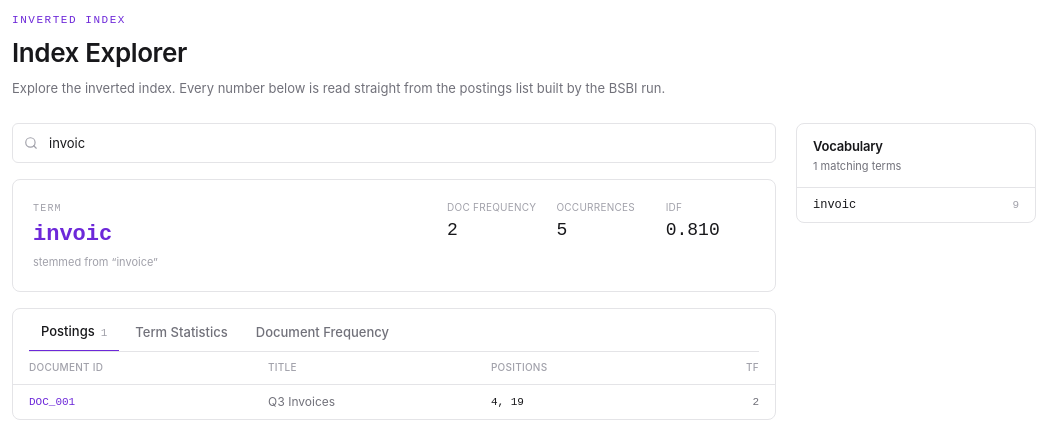
Scenario: IndexExplorerPage on a corpus without the demo vocabulary › still filters the panel while a typed prefix matches
Expected: the text "Q3 Invoices" is shown, [252, 384, 475, 420]
Replace the text in the field named "Term to inspect" with "pay" at [394, 143], box [12, 123, 776, 163]
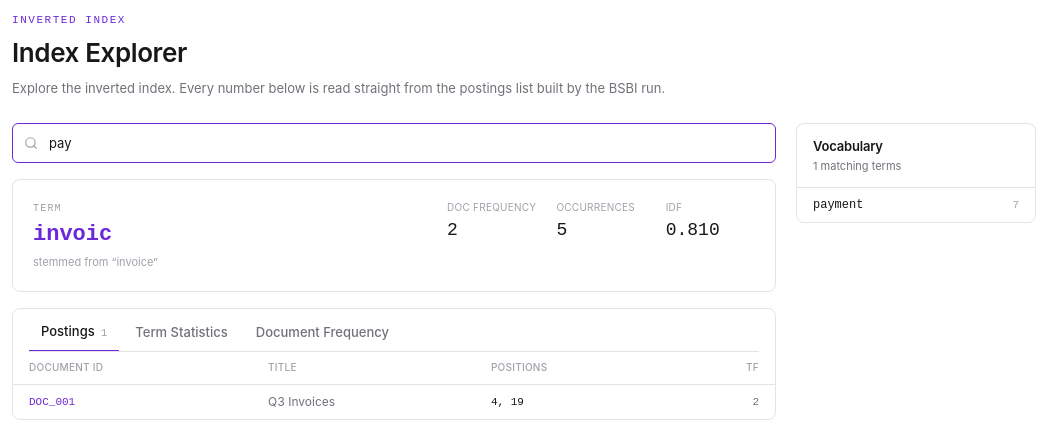
Expected: the text "1 matching terms" is shown, [813, 159, 901, 173]
Expected: the button "payment 7" is shown, [797, 188, 1035, 222]
